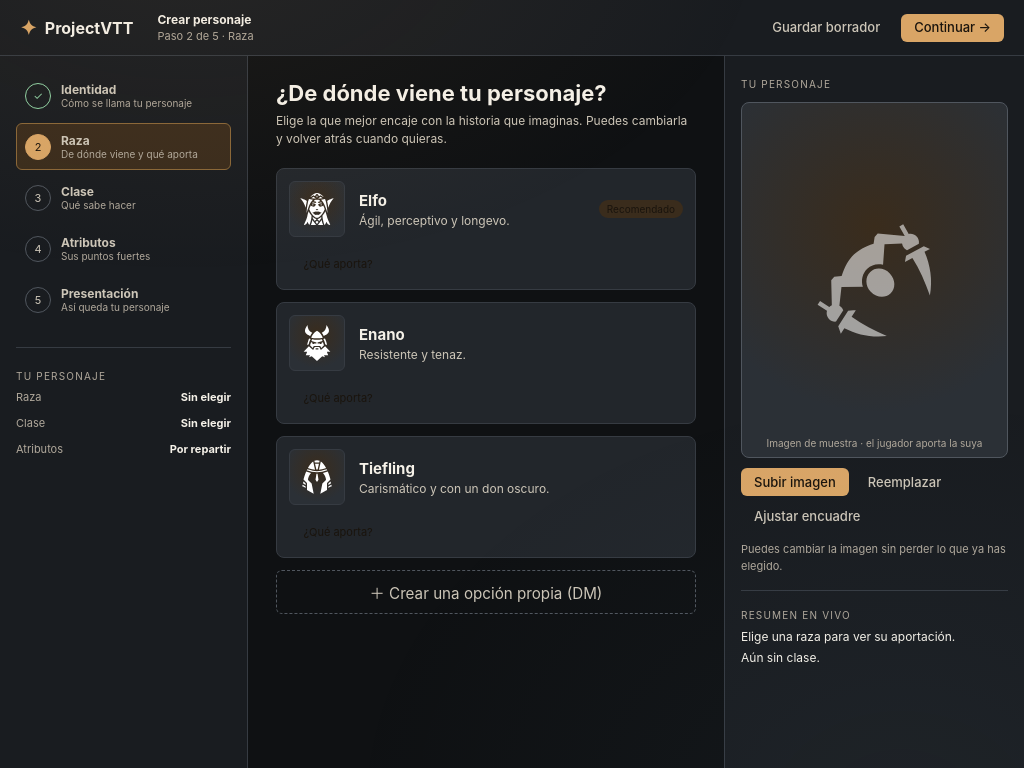
Scenario: Prototipo EXP-1 — creación visual › seleccionar una raza actualiza el resumen y desplegar explica qué aporta
Click the text "Enano" at point(382, 334), box [359,324,405,344]
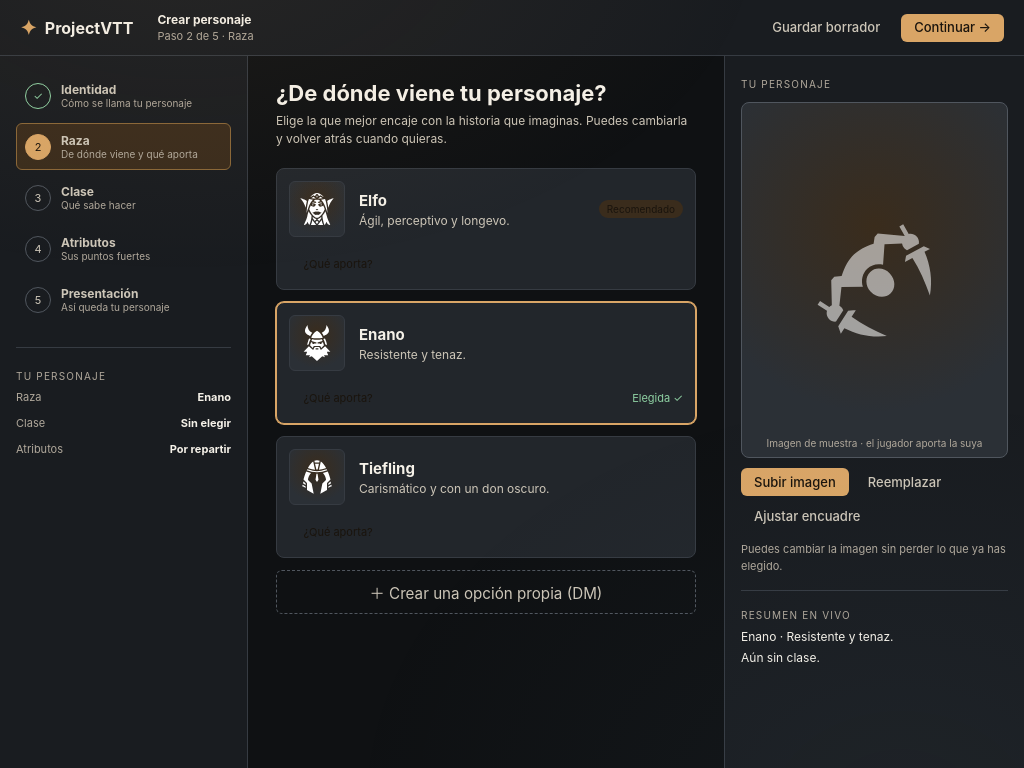
Now the text "Enano · Resistente y tenaz." is shown, box [741,629,894,644]
Click the button "¿Qué aporta?" in the row of "Elegida ✓" at point(338, 398), box [289,383,387,413]
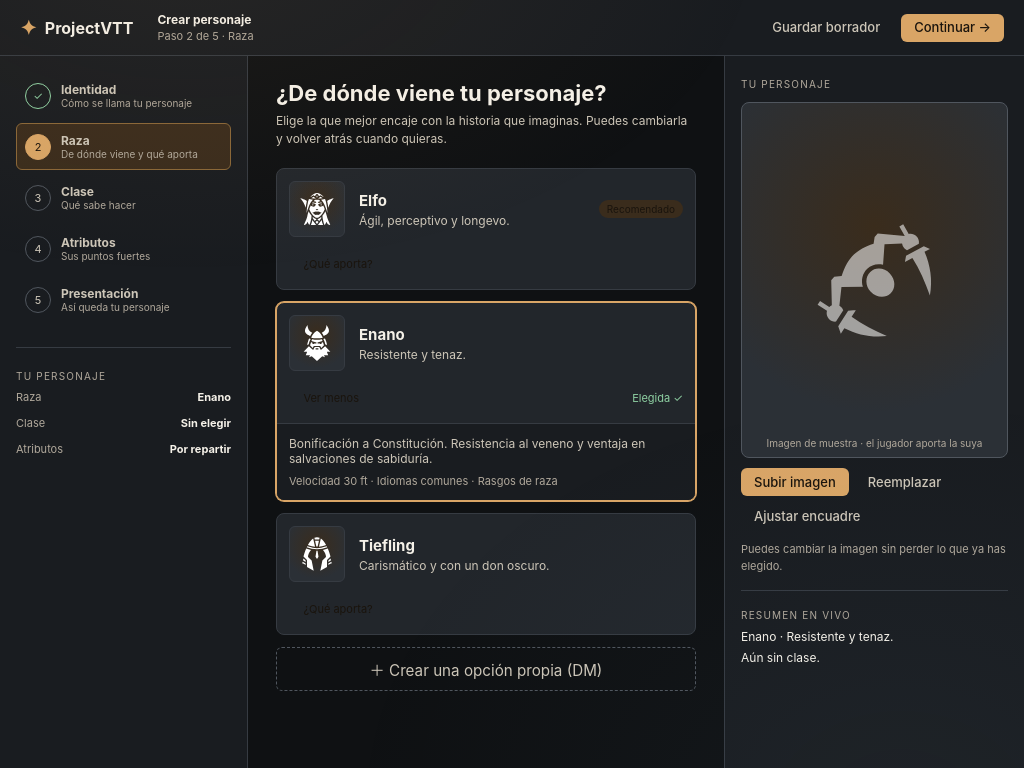
Now the text "Bonificación a Constitución" is shown, box [289,436,646,466]
Now the text "Velocidad 30 ft · Idiomas comunes · Rasgos de raza" is shown, box [289,474,558,488]
